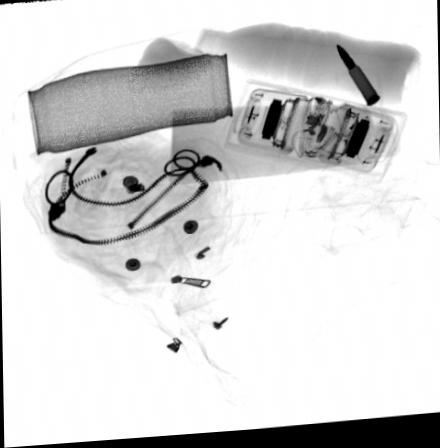Bullet: (334, 48, 381, 112)
